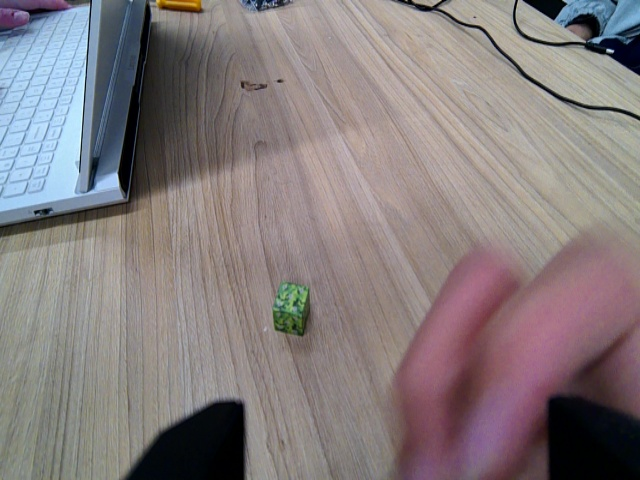grass: (273, 282, 310, 336)
